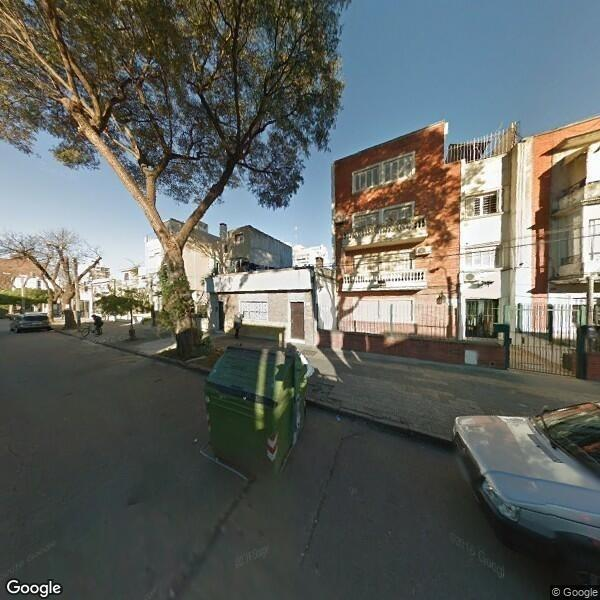Trash: (207, 345, 307, 479)
